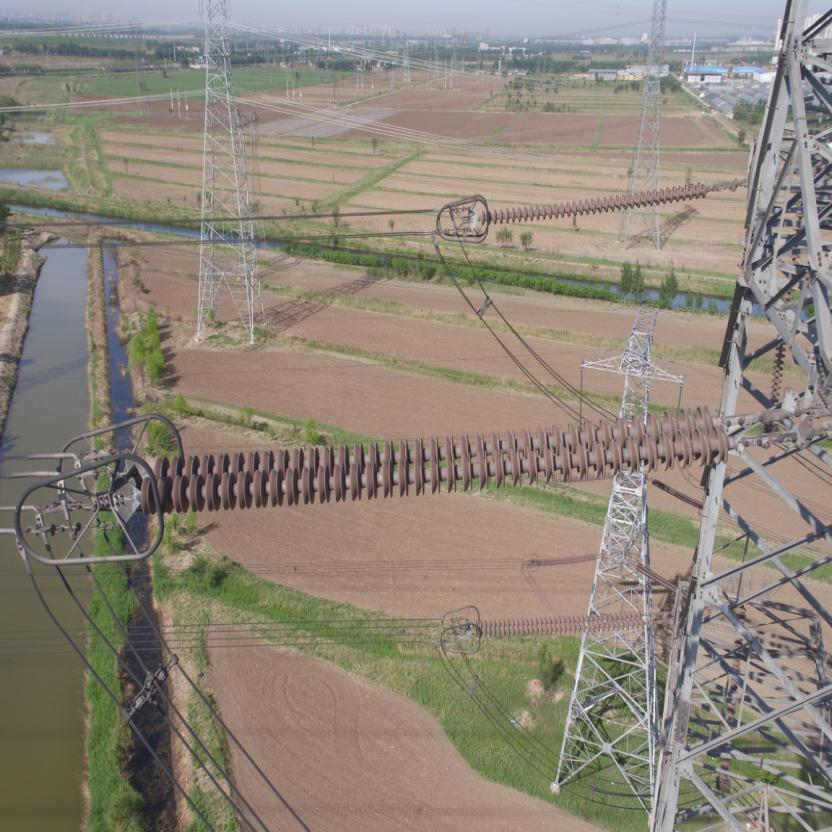insulator: (134, 401, 764, 515), (475, 179, 722, 228), (466, 606, 653, 641), (631, 558, 676, 591), (533, 550, 601, 567)
